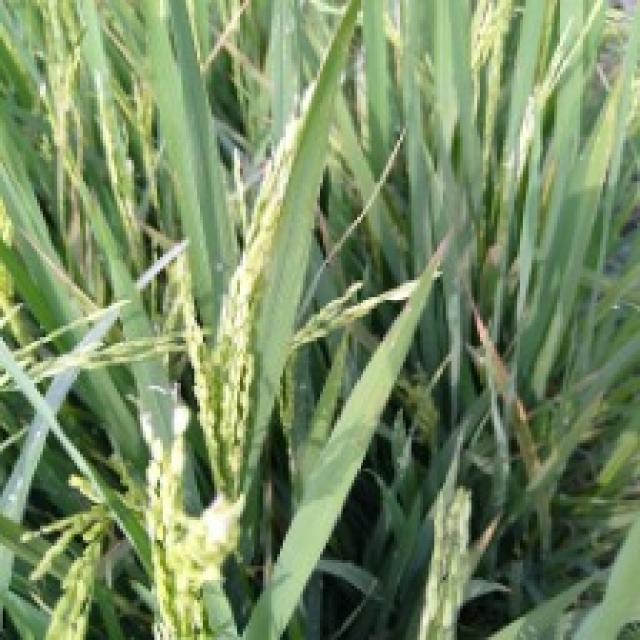Bacterial_Blight: (462, 289, 552, 543)
